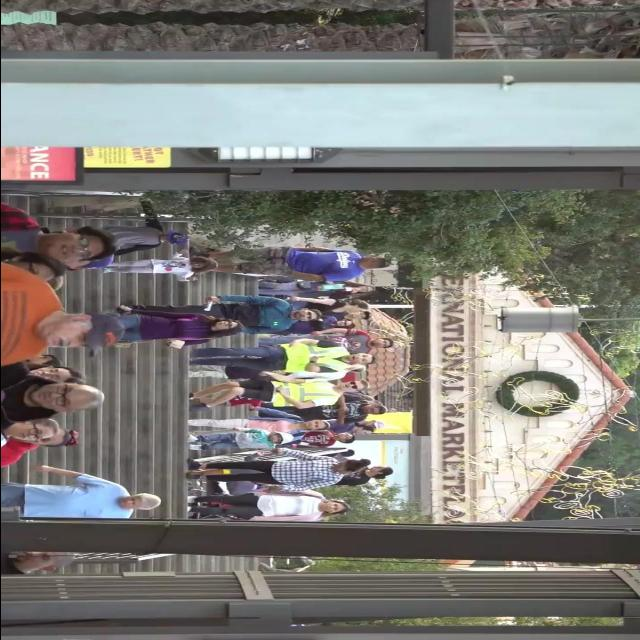jacket: (263, 376, 339, 418), (278, 338, 348, 376)
